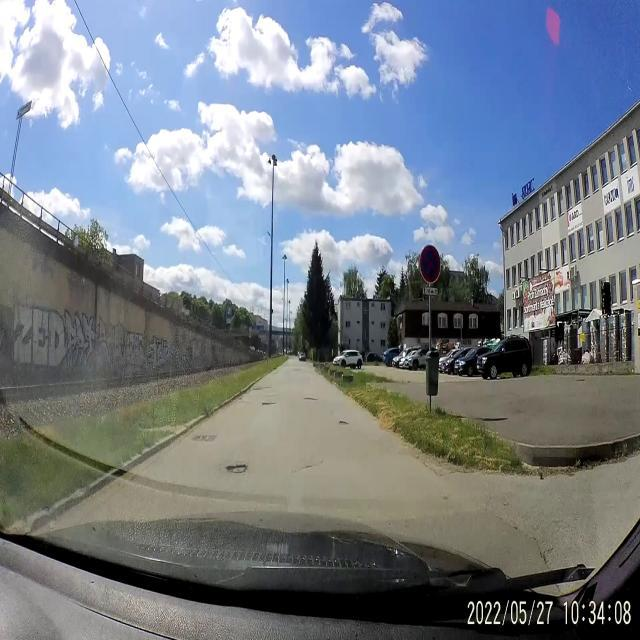Manhole: (191, 430, 217, 444)
Pothole: (224, 460, 248, 480), (298, 462, 316, 473), (258, 399, 278, 408), (252, 384, 272, 393), (302, 396, 319, 406), (338, 417, 349, 429)
